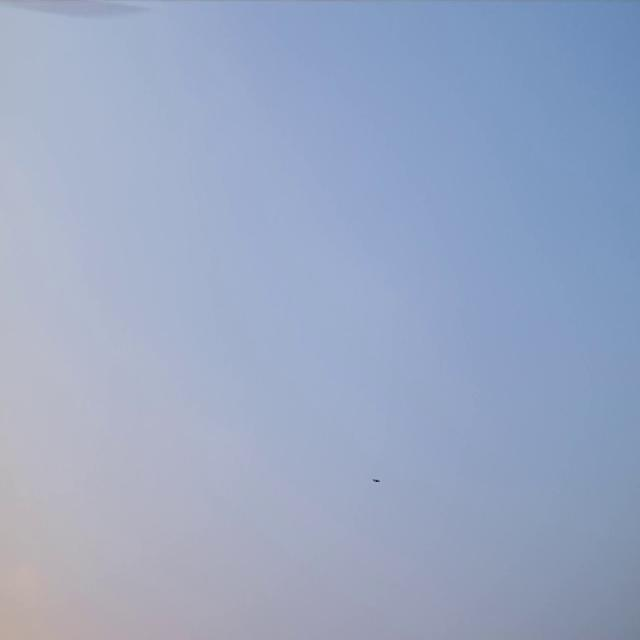UAV: (371, 478, 381, 483)
